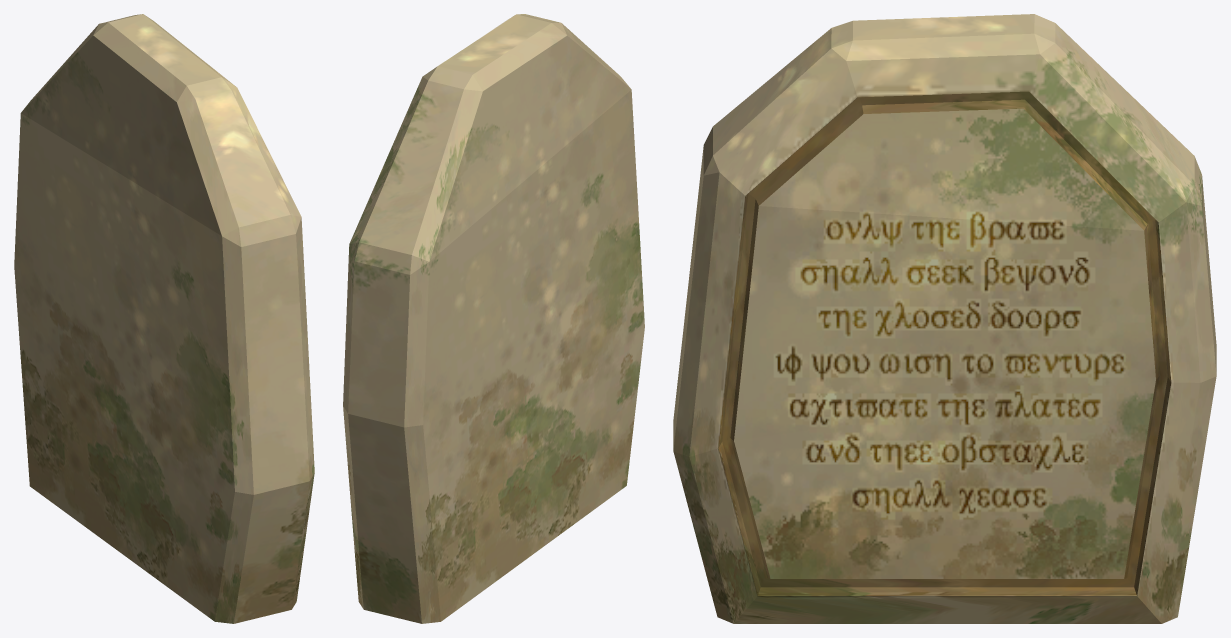
Rendered from ruinGate.fbx.
3 renders of one model, left to right at view 1: azimuth 30°, elevation 25°; view 2: azimuth 150°, elevation 25°; view 3: azimuth 270°, elevation 25°, orthographic. The views are drawn at different scales.
Visible parts, largest first — view 1: RuinGate; view 2: RuinGate; view 3: RuinGate.
Part boxes in pixels (left/top/right/bottom): RuinGate: left=14, top=14, right=314, bottom=623; RuinGate: left=343, top=14, right=644, bottom=623; RuinGate: left=673, top=14, right=1216, bottom=623.
Bounding box in the file's own units: 0.9599 × 5.11 × 4.36.
